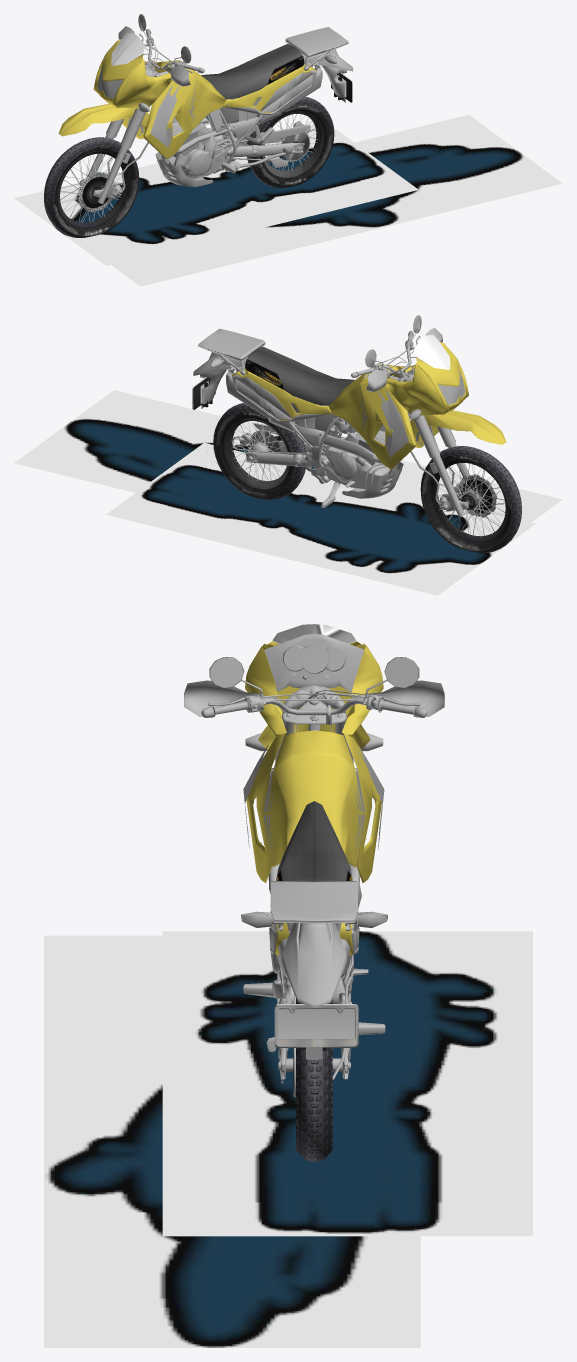
The model's file is bike1.fbx.
3 renders of one model, top to bottom at view 1: azimuth 30°, elevation 25°; view 2: azimuth 150°, elevation 25°; view 3: azimuth 270°, elevation 25°, orthographic. The views are drawn at different scales.
Parts seen in each view (by area): view 1: Shadow_SunSet, Shadow_DayLight, Chrome, Body, SteeringChrome, Tyre_F_1, Matt, Rim_F_1, Tyre_B_1, Rim_B_1, SteeringBody, Glass; view 2: Shadow_DayLight, Shadow_SunSet, Chrome, Body, SteeringChrome, Tyre_F_1, Matt, Rim_F_1, Tyre_B_1, Rim_B_1, SteeringBody, Glass; view 3: Shadow_DayLight, Shadow_SunSet, Chrome, Body, SteeringChrome, Tyre_B_1, Matt, Plate_3, Mirror, Glass.
Part boxes in pixels (bbox=[...]): Shadow_SunSet: bbox=[111, 114, 562, 286]; Shadow_DayLight: bbox=[14, 125, 418, 265]; Chrome: bbox=[97, 27, 353, 186]; Body: bbox=[93, 39, 316, 158]; SteeringChrome: bbox=[79, 14, 204, 203]; Tyre_F_1: bbox=[44, 137, 139, 237]; Matt: bbox=[201, 44, 304, 99]; Rim_F_1: bbox=[57, 150, 129, 228]; Tyre_B_1: bbox=[247, 97, 334, 188]; Rim_B_1: bbox=[262, 111, 324, 177]; SteeringBody: bbox=[58, 104, 148, 136]; Glass: bbox=[111, 32, 145, 65]; Shadow_DayLight: bbox=[106, 442, 535, 595]; Shadow_SunSet: bbox=[14, 390, 562, 522]; Chrome: bbox=[193, 328, 465, 507]; Body: bbox=[232, 341, 468, 468]; SteeringChrome: bbox=[351, 315, 469, 516]; Tyre_F_1: bbox=[420, 446, 521, 552]; Matt: bbox=[245, 346, 354, 405]; Rim_F_1: bbox=[431, 460, 507, 541]; Tyre_B_1: bbox=[213, 403, 305, 500]; Rim_B_1: bbox=[223, 418, 289, 488]; SteeringBody: bbox=[410, 410, 506, 444]; Glass: bbox=[414, 335, 450, 369]; Shadow_DayLight: bbox=[162, 931, 532, 1236]; Shadow_SunSet: bbox=[44, 935, 420, 1347]; Chrome: bbox=[241, 634, 387, 1097]; Body: bbox=[245, 641, 383, 955]; SteeringChrome: bbox=[184, 657, 444, 762]; Tyre_B_1: bbox=[296, 998, 332, 1161]; Matt: bbox=[276, 801, 352, 881]; Plate_3: bbox=[274, 1004, 358, 1047]; Mirror: bbox=[210, 658, 418, 687]; Glass: bbox=[272, 624, 355, 643].
Bounding box in the file's own units: 312 × 126 × 147.
